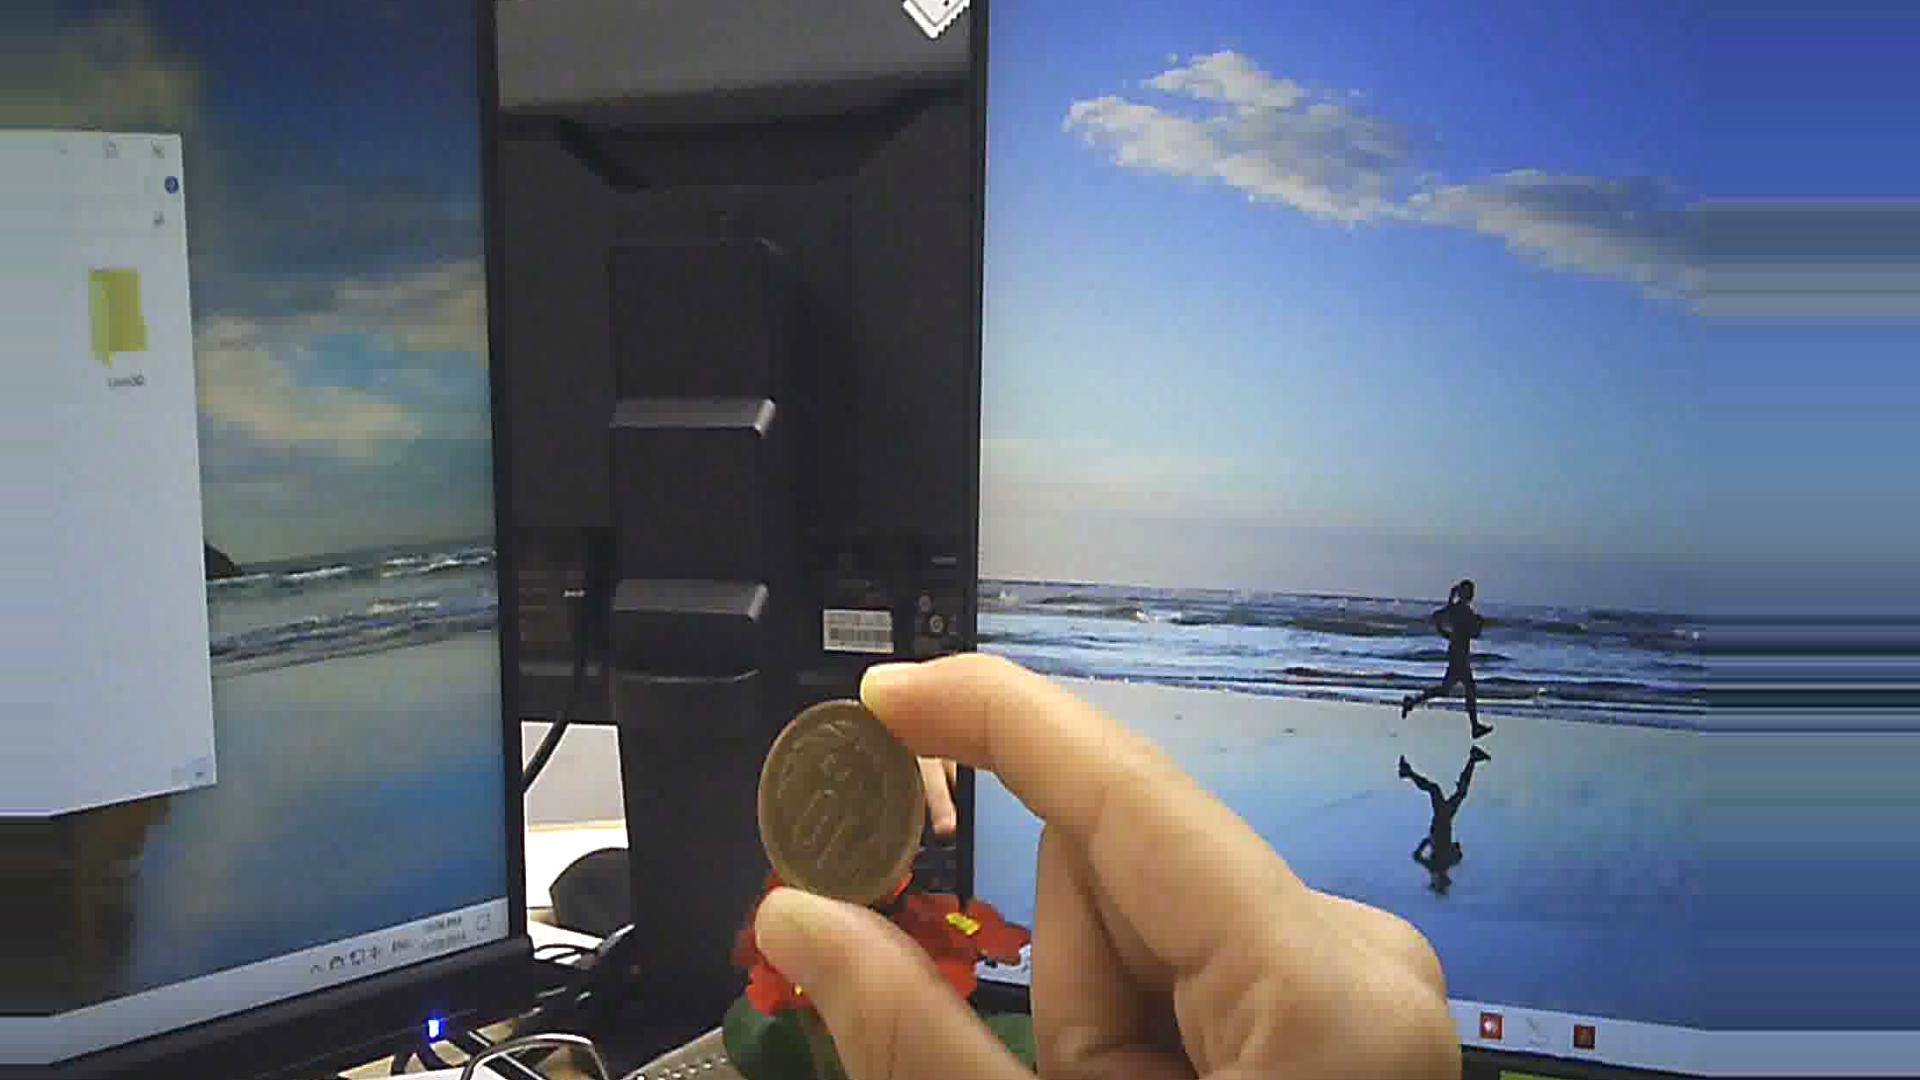10 Yen: (746, 698, 922, 911)
